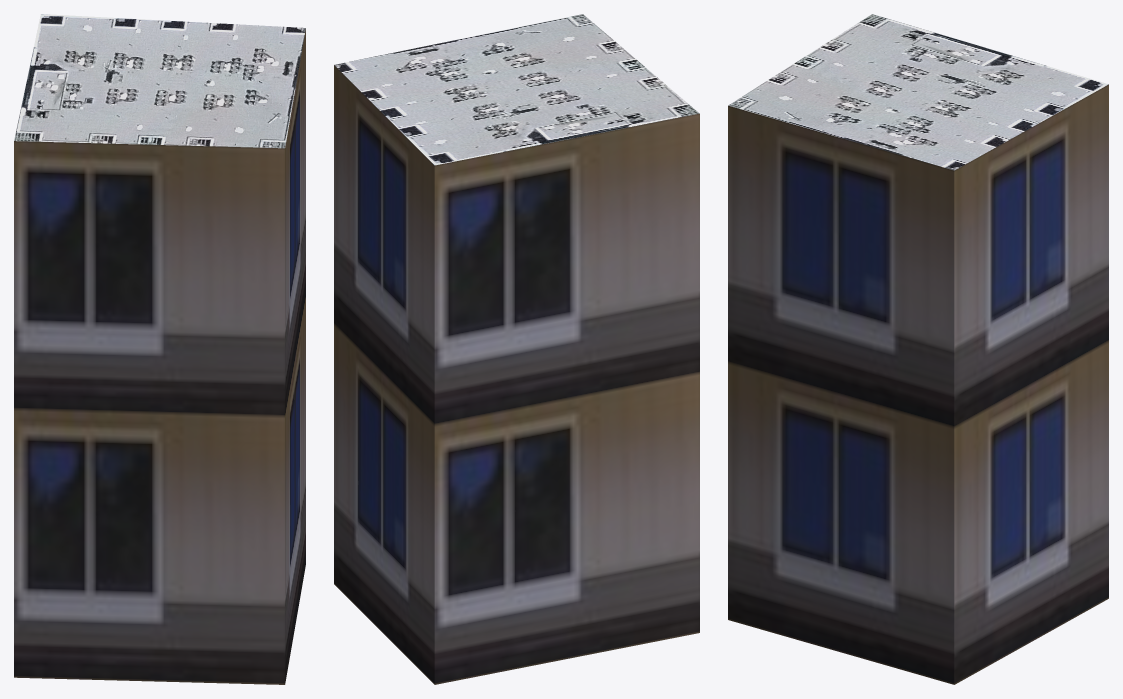
File: ResTex__1120.fbx
3 views of the same model, side by side, from view 1: azimuth 30°, elevation 25°; view 2: azimuth 150°, elevation 25°; view 3: azimuth 270°, elevation 25° (orthographic). The views are drawn at different scales.
Visible parts, largest first — view 1: CityEngineMaterial_5_m, CityEngineMaterial_8_m; view 2: CityEngineMaterial_5_m, CityEngineMaterial_8_m; view 3: CityEngineMaterial_5_m, CityEngineMaterial_8_m.
Part boxes in pixels (left/top/right/bottom): CityEngineMaterial_5_m: left=14, top=29, right=305, bottom=684; CityEngineMaterial_8_m: left=14, top=14, right=305, bottom=148; CityEngineMaterial_5_m: left=334, top=65, right=699, bottom=684; CityEngineMaterial_8_m: left=334, top=14, right=699, bottom=165; CityEngineMaterial_5_m: left=728, top=84, right=1108, bottom=684; CityEngineMaterial_8_m: left=728, top=14, right=1108, bottom=170.
Bounding box in the file's own units: 3.92 × 6 × 4.03.
2 materials, 2 textured.
